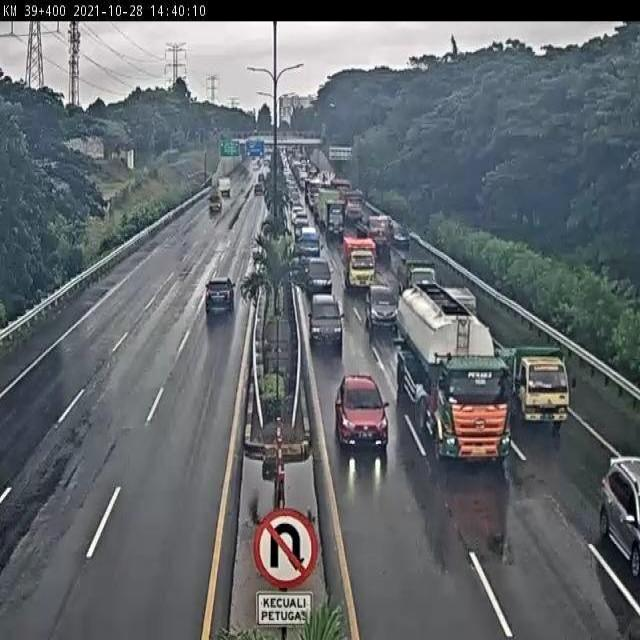Car: (598, 456, 640, 576), (334, 373, 390, 451), (308, 294, 344, 352), (365, 285, 399, 333), (205, 276, 236, 316), (304, 256, 334, 294), (392, 225, 411, 251)
Truck: (393, 282, 513, 468), (495, 342, 576, 432), (341, 234, 377, 291), (356, 213, 392, 258), (324, 199, 346, 242), (341, 190, 364, 226), (219, 176, 233, 198), (330, 177, 350, 191)
